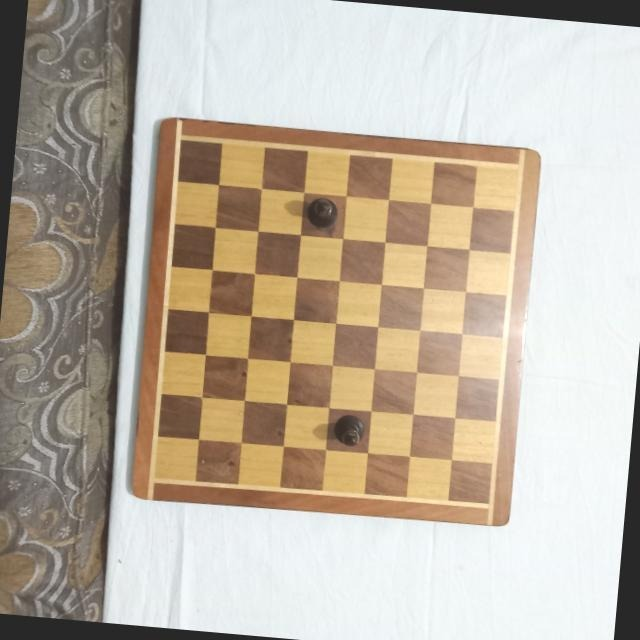black-bishop: (303, 195, 340, 231), (332, 414, 365, 448)
